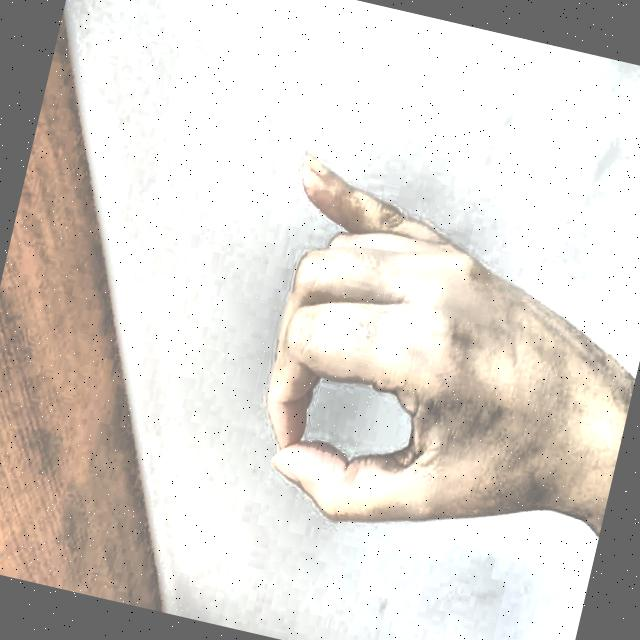Ou: (187, 113, 640, 615)
